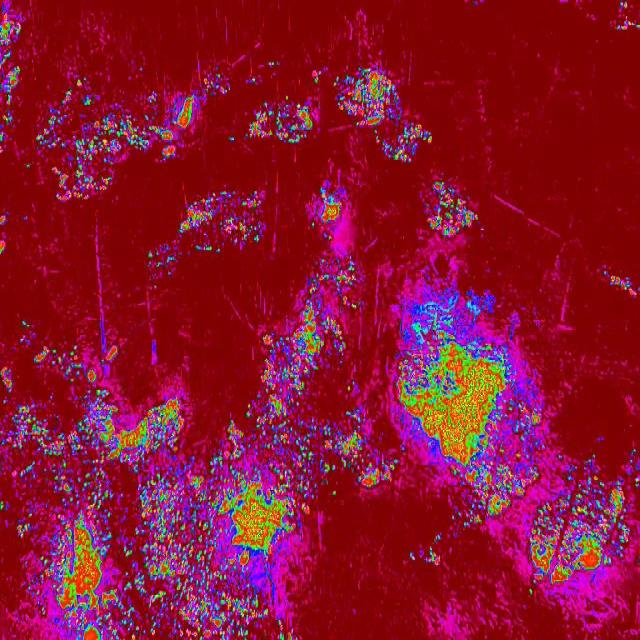fire: (0, 441, 308, 640), (386, 295, 544, 517), (0, 349, 183, 442), (524, 466, 640, 596), (252, 294, 330, 442), (52, 77, 195, 147), (176, 190, 268, 260), (315, 413, 381, 491), (339, 66, 399, 128), (244, 95, 314, 147), (51, 146, 116, 200), (423, 185, 487, 236), (388, 118, 436, 168)
